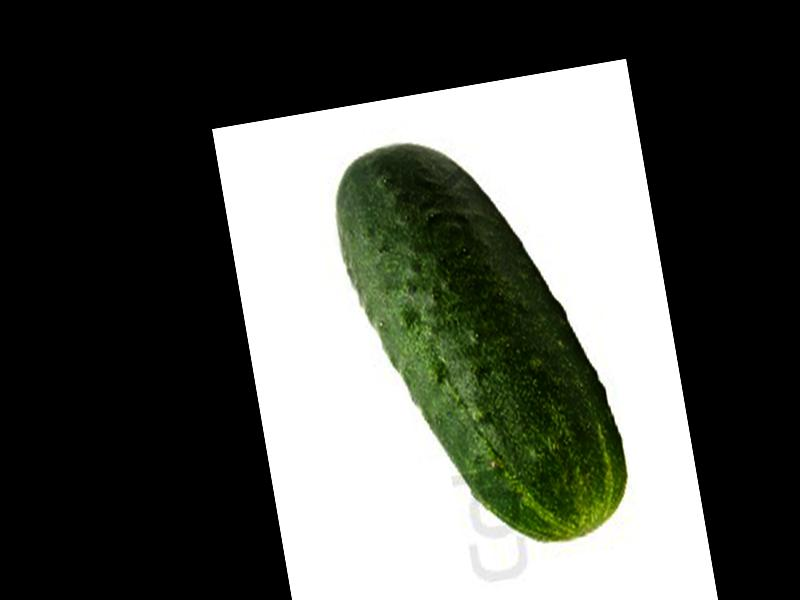Cucumber: (324, 116, 633, 570)
